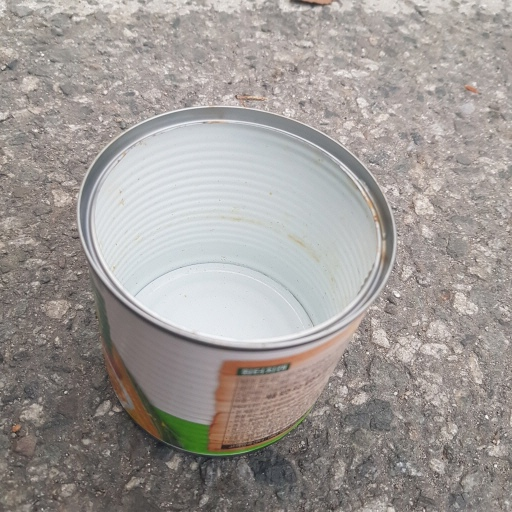Metal_1: (77, 104, 397, 463)
